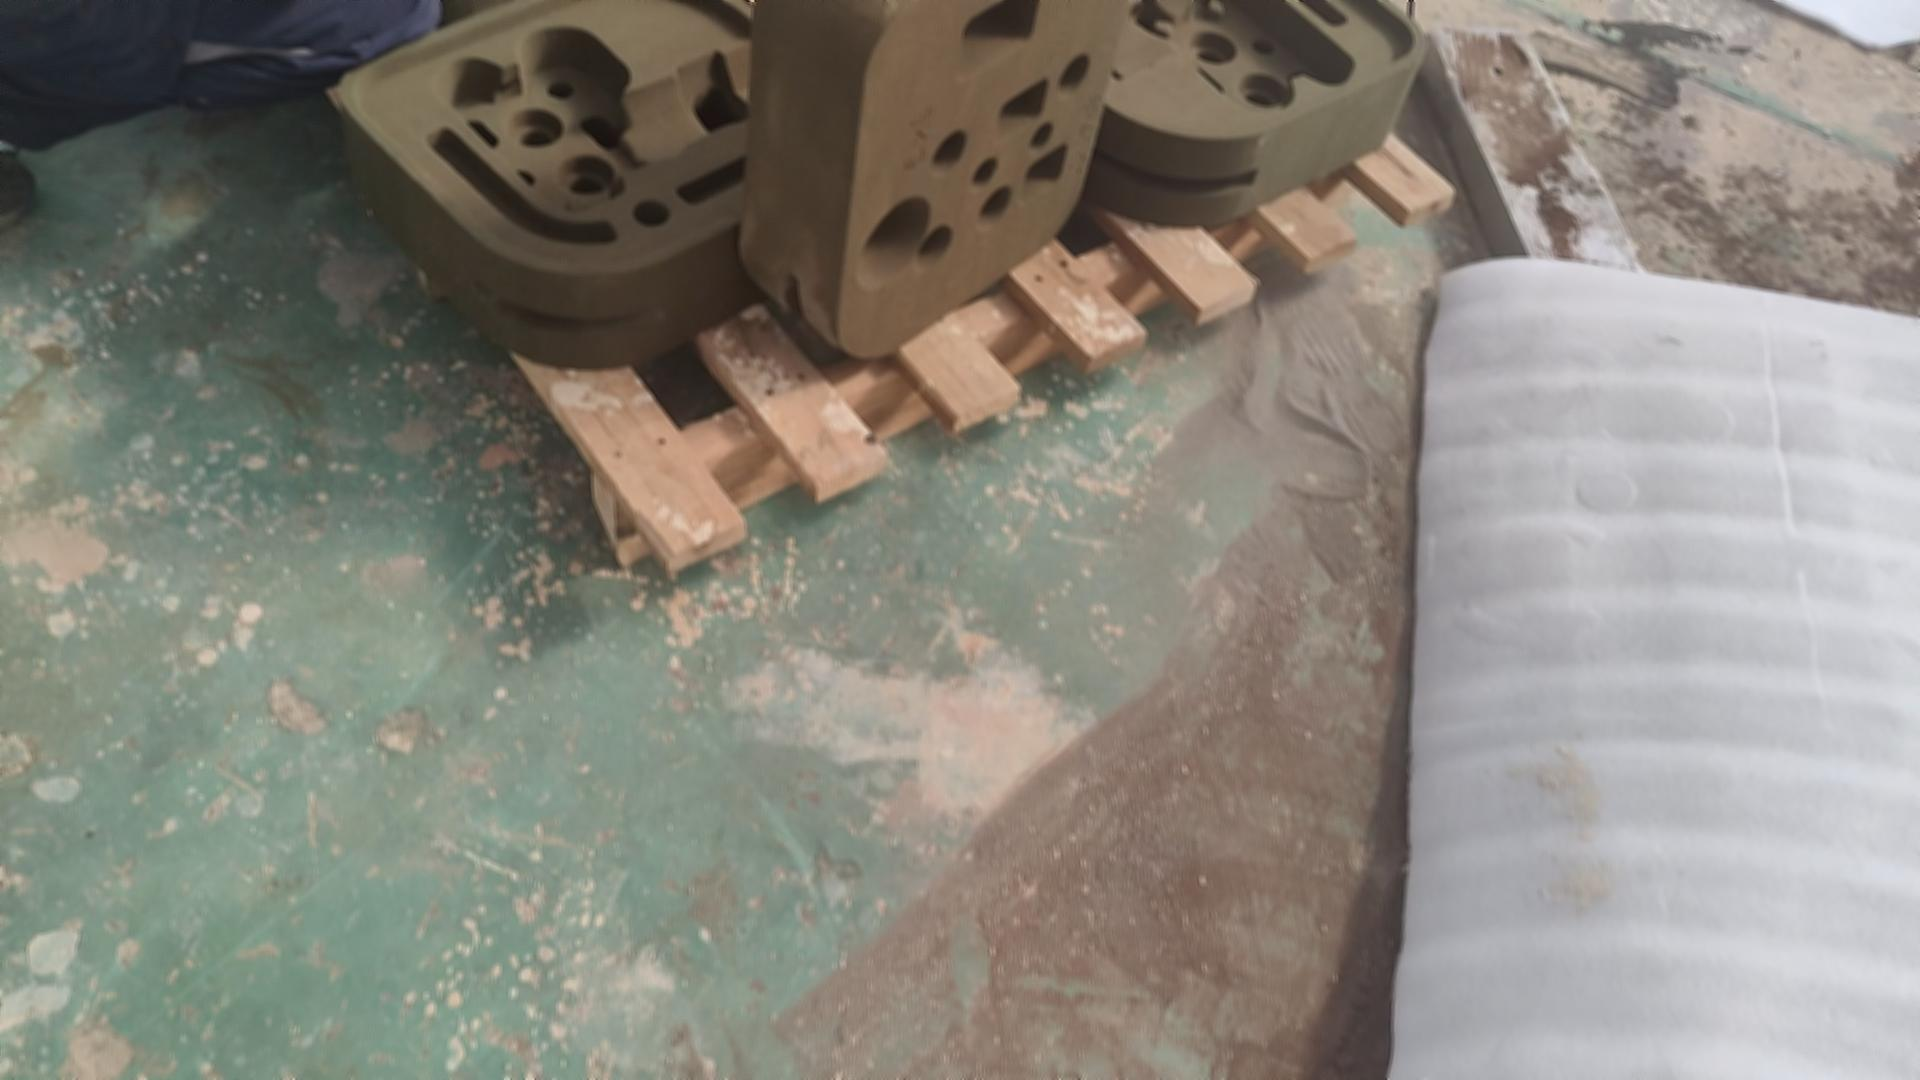pouring hole: (855, 196, 932, 291)
